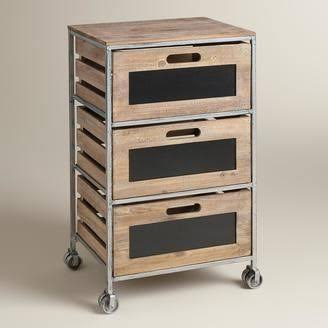Carts: (63, 17, 264, 314)
